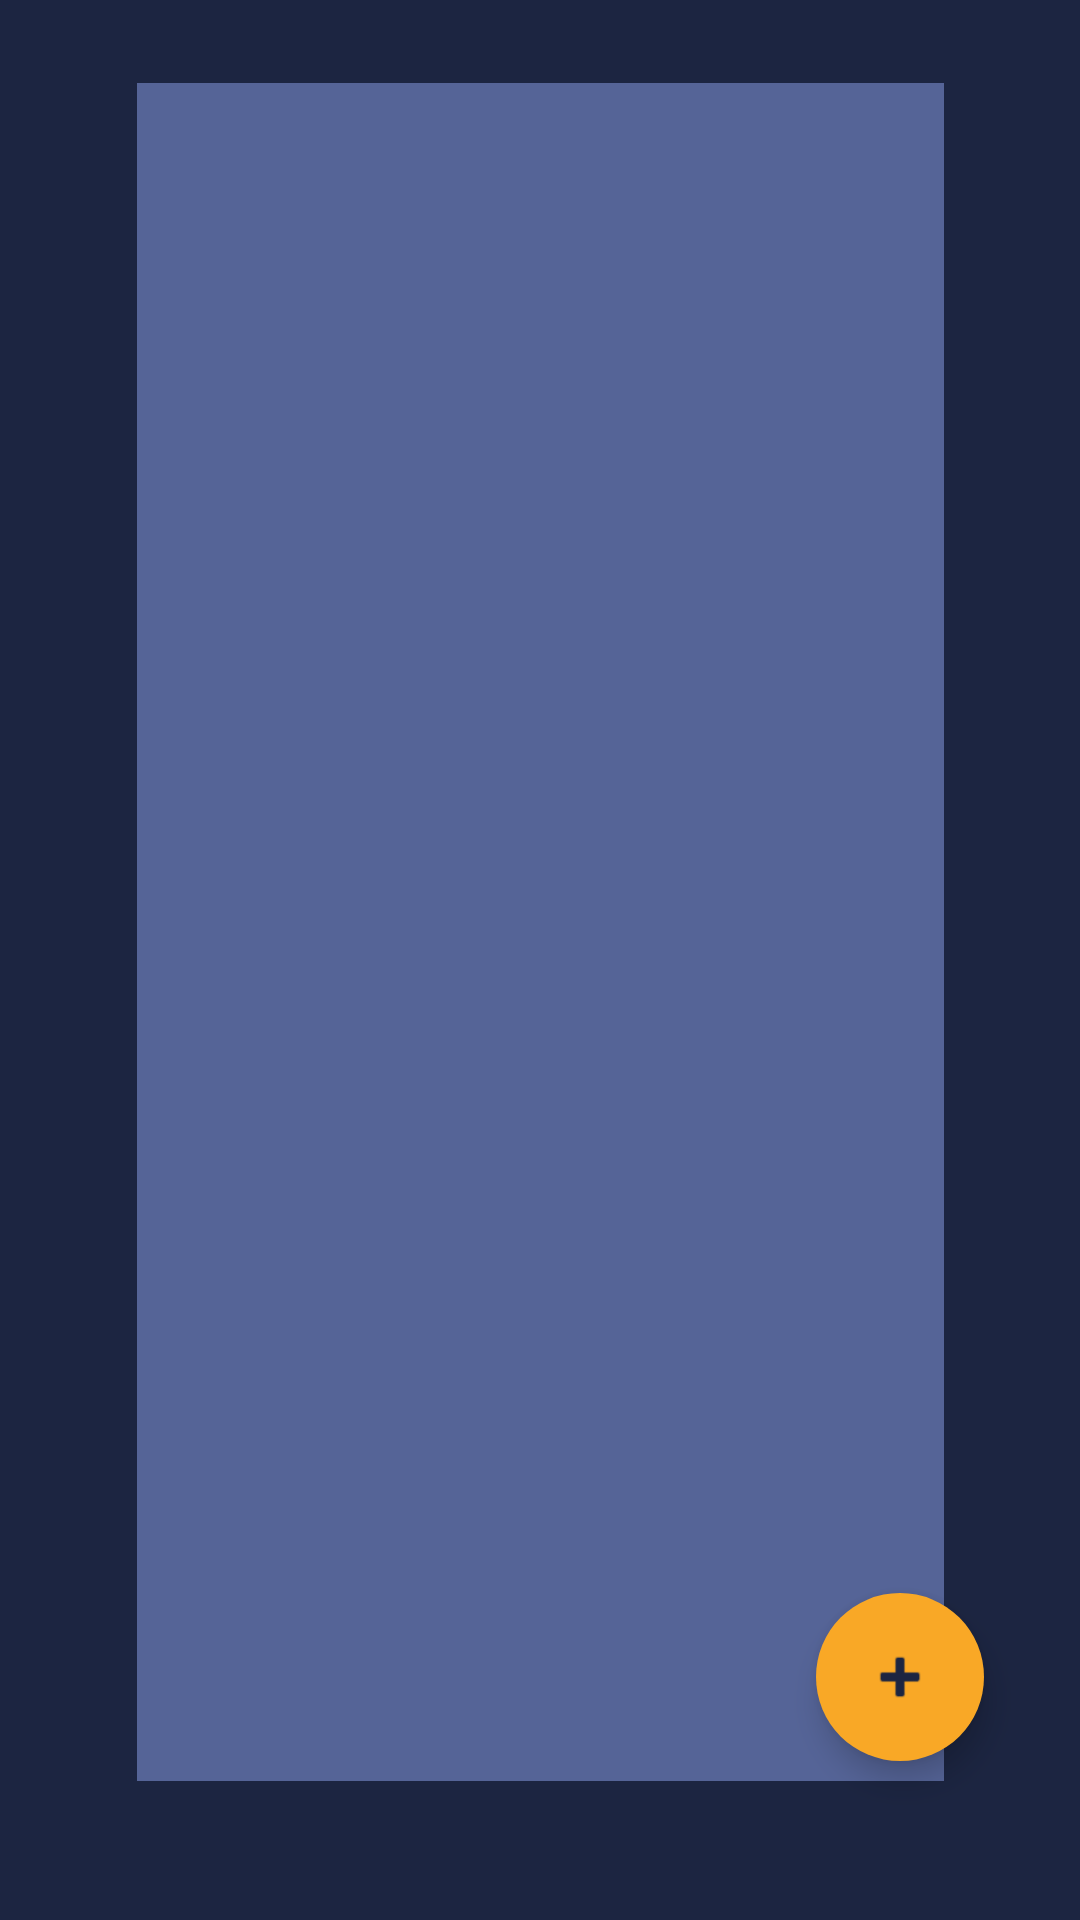

Point at icon controls on the screen. Image size 1080 × 1920, points as (x,y).
add: (900,1677)
